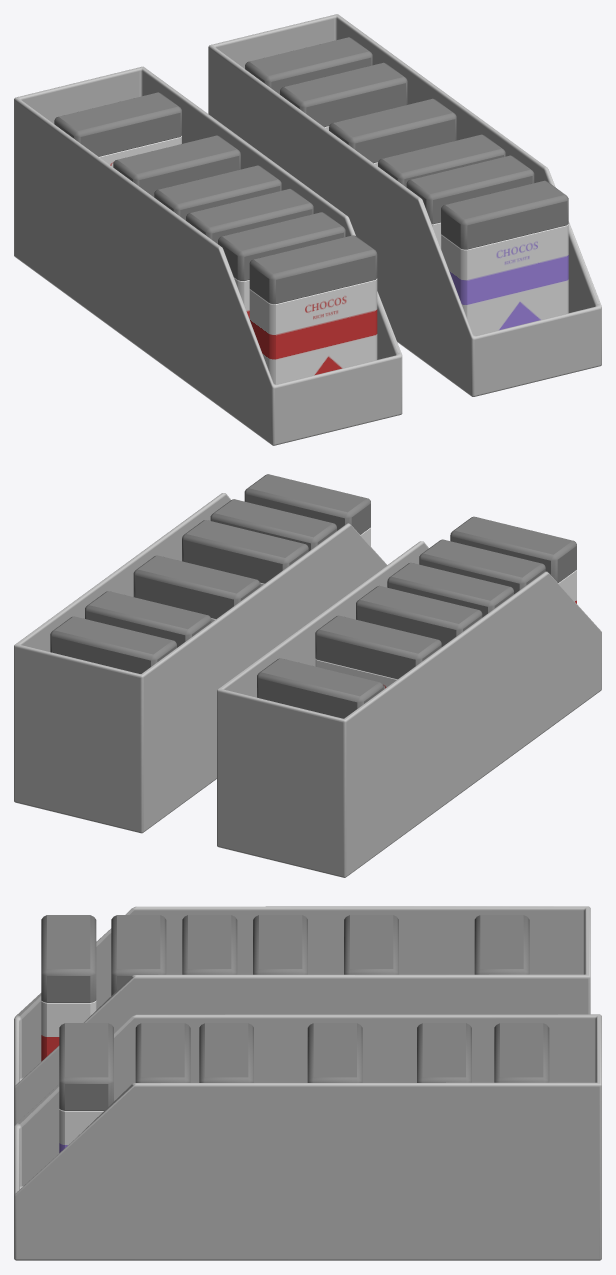
The model's file is cgt_Accessory_106_001.fbx.
3 renders of one model, top to bottom at view 1: azimuth 30°, elevation 25°; view 2: azimuth 150°, elevation 25°; view 3: azimuth 270°, elevation 25°, orthographic. The views are drawn at different scales.
Visible parts, largest first — view 1: cgt_Accessory_106_001; view 2: cgt_Accessory_106_001; view 3: cgt_Accessory_106_001.
Part boxes in pixels (x1,y1,x2,y2): cgt_Accessory_106_001: [14, 14, 601, 445]; cgt_Accessory_106_001: [14, 474, 601, 877]; cgt_Accessory_106_001: [14, 906, 601, 1260].
Bounding box in the file's own units: 18.98 × 26.38 × 8.76.
Materials: 4 (2 with a texture image).
